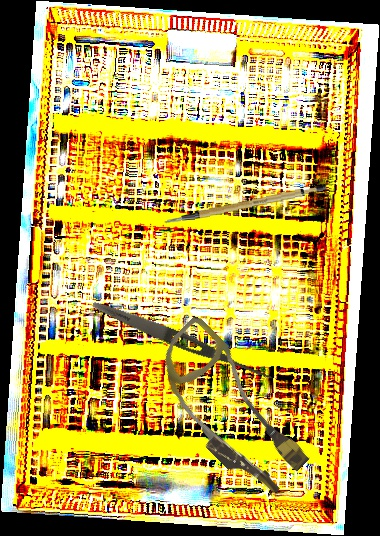Cannula: (134, 314, 326, 505)
Dressing Forceps: (90, 297, 277, 385)
Scalpel Handle: (162, 182, 328, 224)
